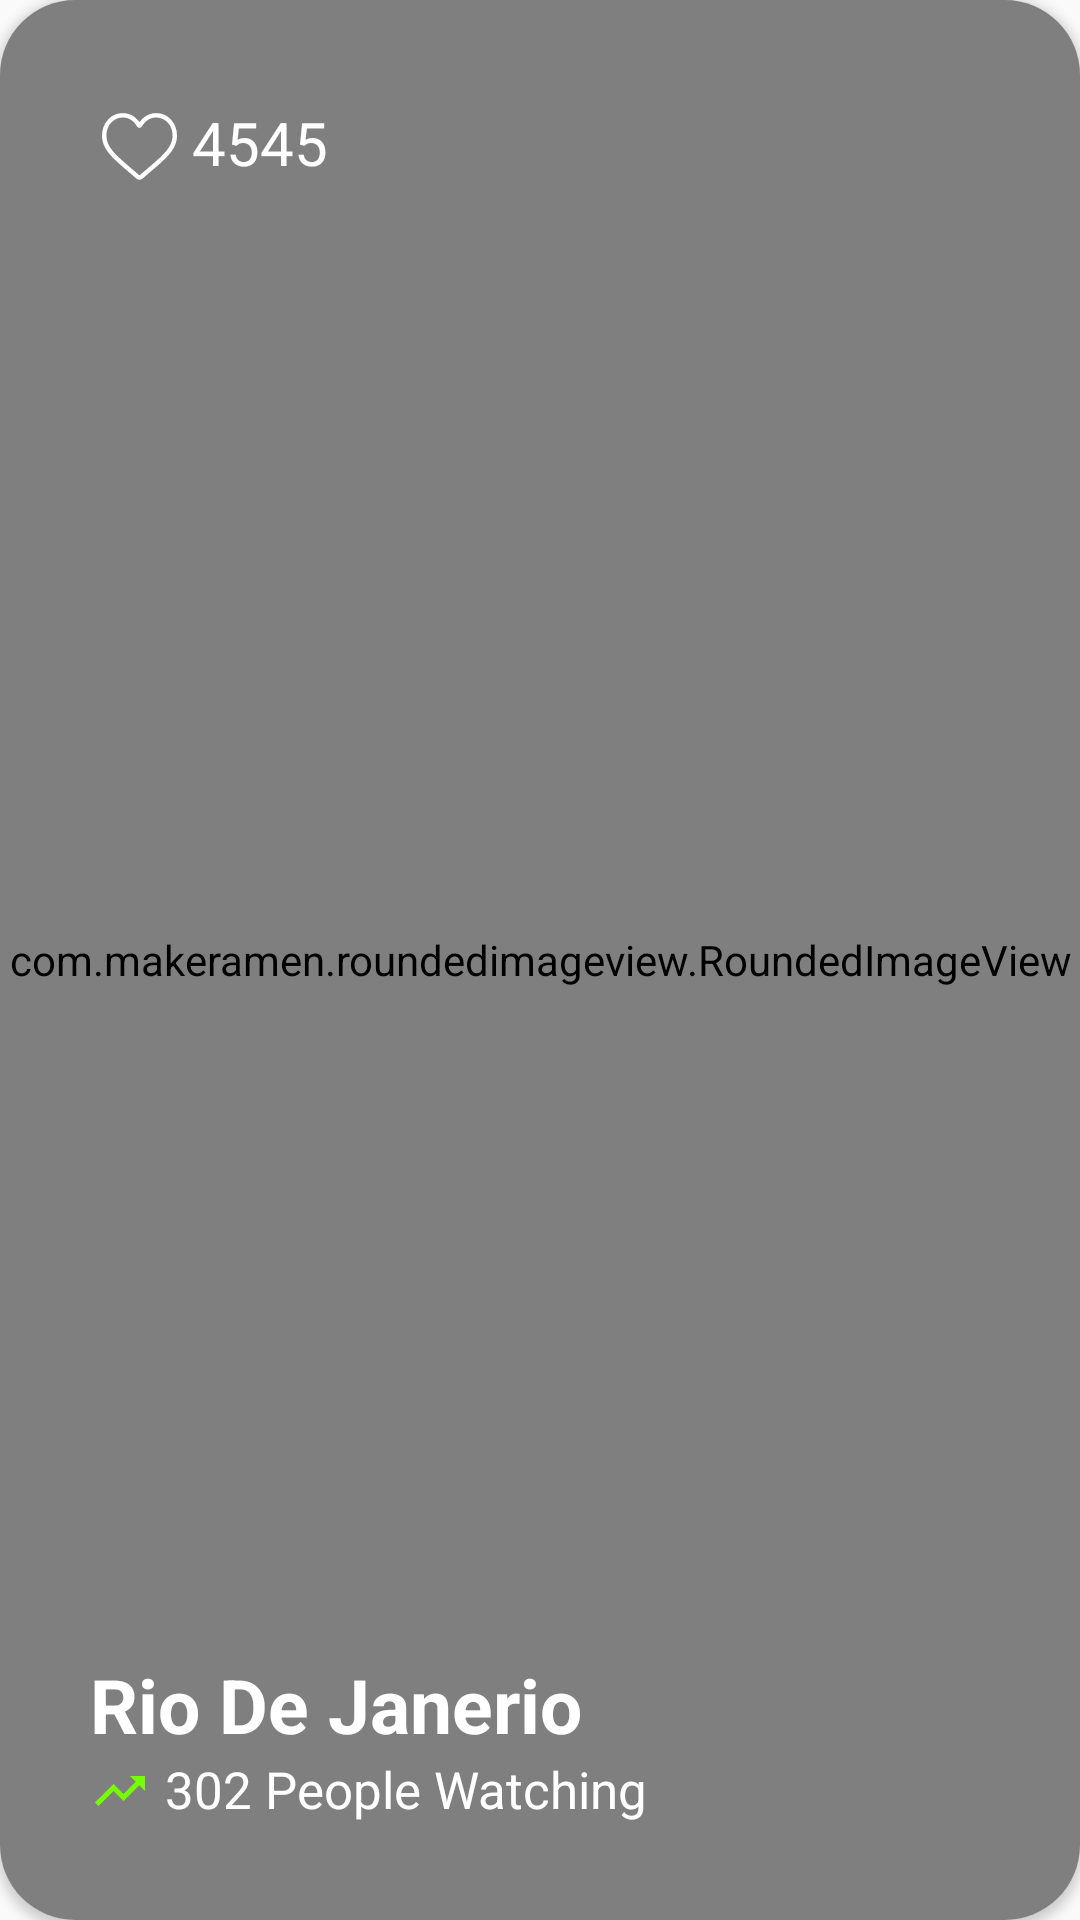

Icons on this 1080px×1920px Android screen, each with its box as [x1,y1,x2,y2]:
heart: [102,113,177,180]
trending up: [95,1776,145,1806]
